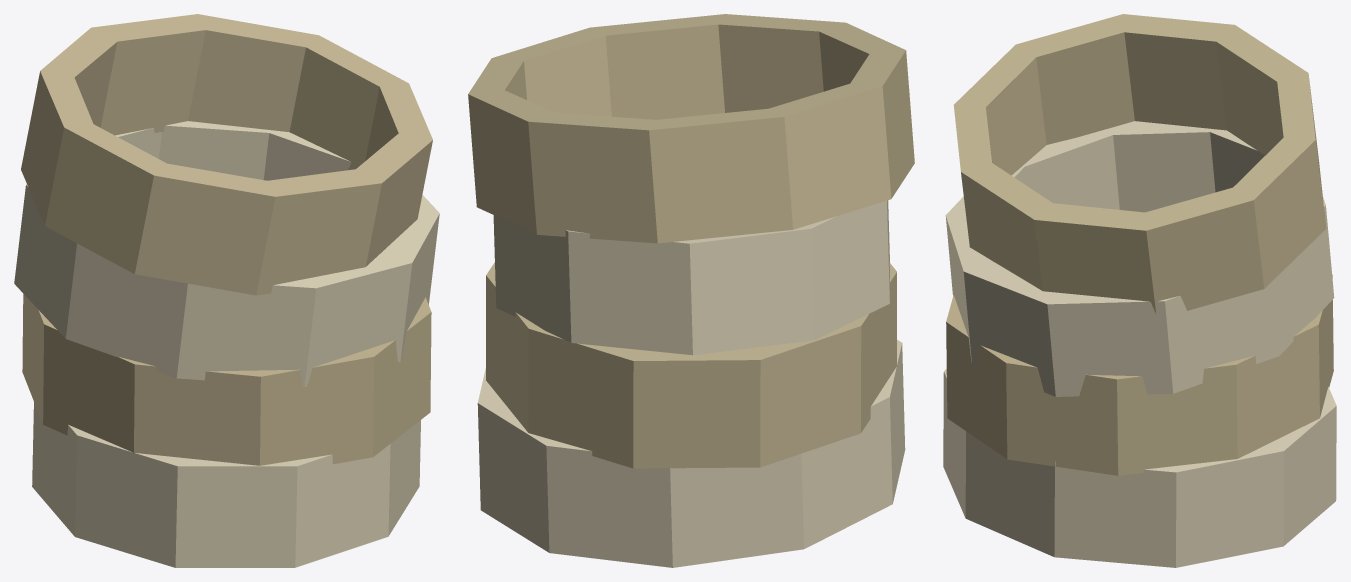
Rendered from mummy_leg_l.glb.
3 views of the same model, side by side, from view 1: azimuth 30°, elevation 25°; view 2: azimuth 150°, elevation 25°; view 3: azimuth 270°, elevation 25° (orthographic). The views are drawn at different scales.
Parts seen in each view (by area): view 1: mummy_leg_l; view 2: mummy_leg_l; view 3: mummy_leg_l.
Boxes of the visible parts, x1,y1,x2,y2 form: mummy_leg_l: (14, 14, 439, 567); mummy_leg_l: (468, 14, 914, 567); mummy_leg_l: (943, 14, 1336, 567).
Size of the model in its own units: 0.2692 by 0.2896 by 0.2581.
